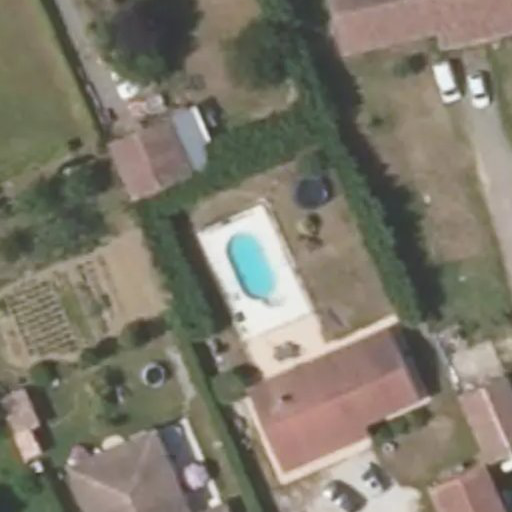pool: (221, 221, 289, 262)
